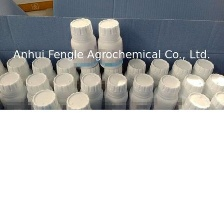insecticide: (28, 87, 66, 143), (23, 69, 55, 128), (60, 89, 97, 140), (66, 16, 100, 70), (3, 53, 38, 105), (175, 72, 208, 125), (50, 71, 81, 127), (0, 69, 30, 126), (74, 71, 104, 127), (161, 57, 195, 106), (124, 72, 155, 125), (183, 56, 217, 103), (95, 16, 124, 71), (151, 73, 181, 126), (101, 72, 131, 125), (196, 69, 224, 123), (28, 52, 60, 98), (53, 55, 84, 101), (144, 55, 171, 102), (178, 92, 210, 128), (123, 57, 147, 99), (205, 87, 223, 134)
